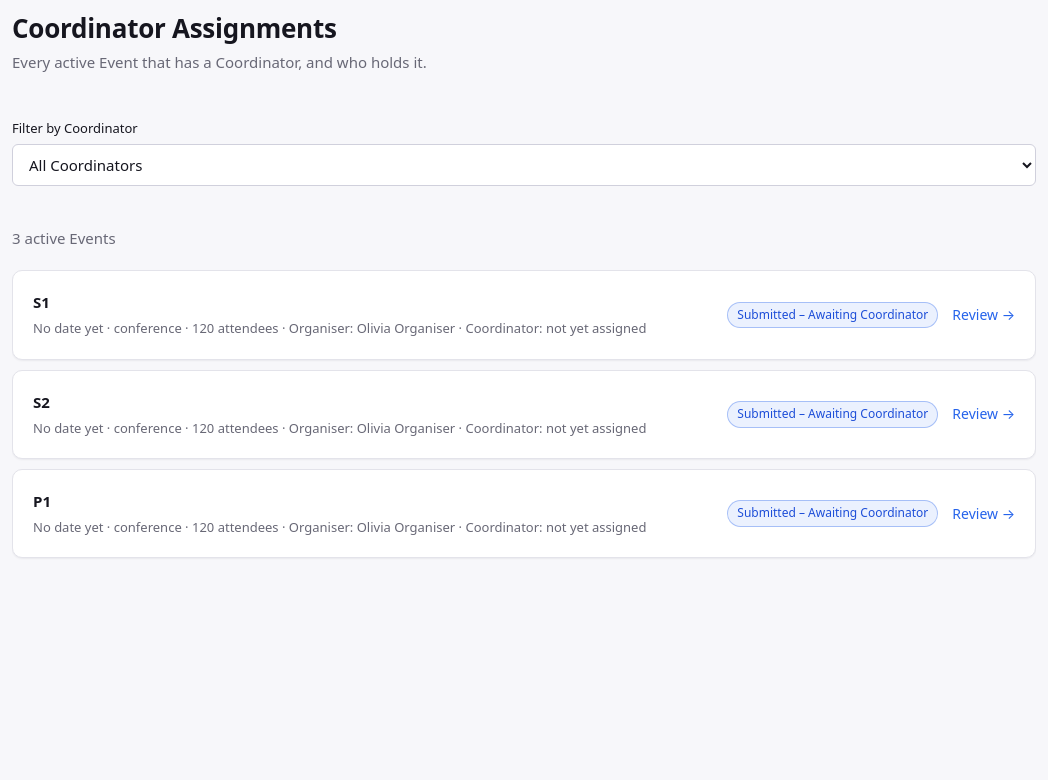
Lead pages › SCRUM-82 AC2: filtering by a Coordinator reloads only theirs and shows how many
Expected: the text "3 active Events" is shown, [12,228,116,248]
Select "Sam Tan (2)" in the dropdown labelled "Filter by Coordinator" at (524, 165), box [12,144,1036,186]
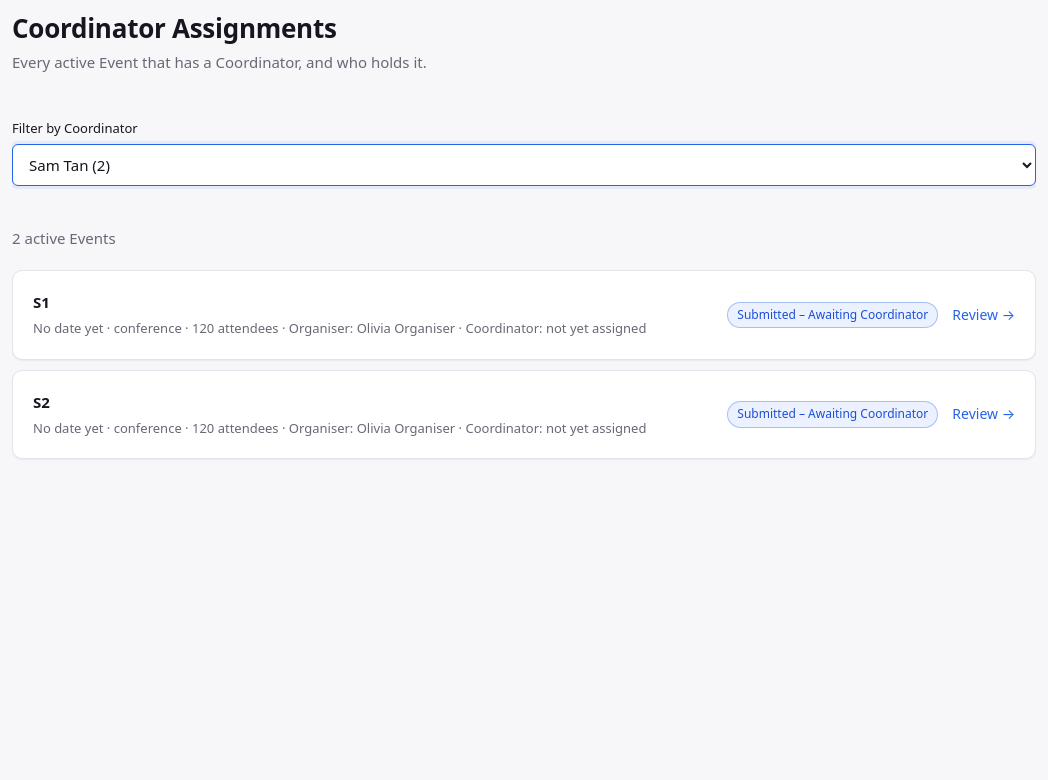
Expected: the text "2 active Events" is shown, [12,228,116,248]
Expected: the text "P1" is gone
